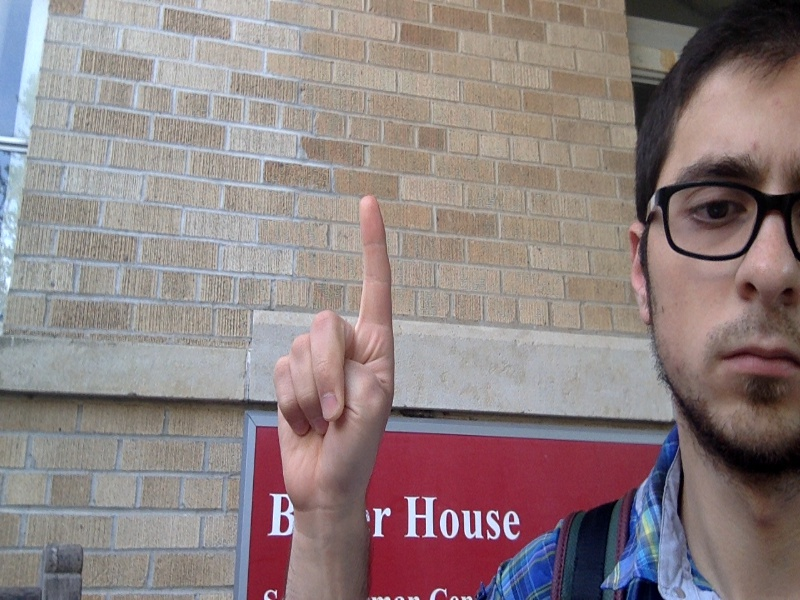1-hand: (272, 193, 397, 521)
